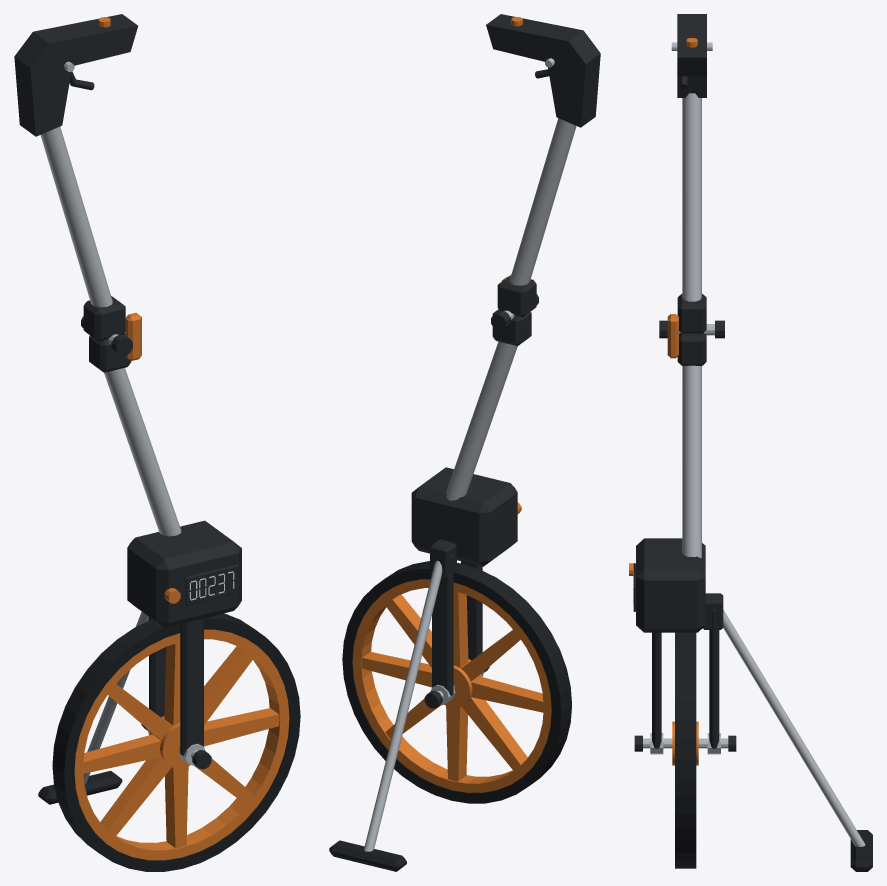
The model's file is A-NEW-20261026-MEASURING-WHEEL-001_LOD2_R2.glb.
3 views of the same model, side by side, from view 1: azimuth 30°, elevation 25°; view 2: azimuth 150°, elevation 25°; view 3: azimuth 270°, elevation 25° (orthographic). The views are drawn at different scales.
Visible parts, largest first — view 1: continuous rubber measuring tire, orange open wheel rim, counter and fork body, pistol grip shell, upper folding shaft, lower fixed shaft, fork side cheek, open wheel spoke 5, open wheel spoke 4, open wheel spoke 6, open wheel spoke 0, open wheel spoke 1 (+11 smaller); view 2: continuous rubber measuring tire, counter and fork body, orange open wheel rim, pistol grip shell, upper folding shaft, lower fixed shaft, diagonal rear stand, fork side cheek.001, open wheel spoke 5, open wheel spoke 4, open wheel spoke 6, rear stand ground foot (+10 smaller); view 3: counter and fork body, continuous rubber measuring tire, upper folding shaft, lower fixed shaft, diagonal rear stand, pistol grip shell, fork side cheek.001, fork side cheek, upper hinge leaf, lower hinge leaf, rear stand ground foot, rear stand mounting lug (+1 smaller).
Boxes of the visible parts, bbox=[...] form: continuous rubber measuring tire: bbox=[52, 613, 300, 871]; orange open wheel rim: bbox=[74, 629, 289, 860]; counter and fork body: bbox=[127, 520, 241, 627]; pistol grip shell: bbox=[14, 14, 137, 136]; upper folding shaft: bbox=[40, 126, 112, 307]; lower fixed shaft: bbox=[104, 368, 181, 536]; fork side cheek: bbox=[180, 618, 203, 755]; open wheel spoke 5: bbox=[100, 757, 171, 836]; open wheel spoke 4: bbox=[83, 734, 161, 773]; open wheel spoke 6: bbox=[164, 766, 188, 848]; open wheel spoke 0: bbox=[204, 708, 279, 746]; open wheel spoke 1: bbox=[204, 646, 253, 725]; continuous rubber measuring tire: bbox=[342, 561, 571, 803]; counter and fork body: bbox=[411, 467, 517, 566]; orange open wheel rim: bbox=[352, 579, 551, 792]; pistol grip shell: bbox=[486, 14, 600, 127]; upper folding shaft: bbox=[509, 118, 576, 285]; lower fixed shaft: bbox=[446, 341, 517, 500]; diagonal rear stand: bbox=[364, 561, 442, 851]; fork side cheek.001: bbox=[432, 555, 453, 695]; open wheel spoke 5: bbox=[461, 697, 527, 770]; open wheel spoke 4: bbox=[471, 676, 543, 712]; open wheel spoke 6: bbox=[446, 706, 467, 781]; rear stand ground foot: bbox=[329, 840, 406, 871]; counter and fork body: bbox=[636, 538, 705, 632]; continuous rubber measuring tire: bbox=[675, 632, 696, 868]; upper folding shaft: bbox=[682, 93, 701, 301]; lower fixed shaft: bbox=[682, 365, 701, 558]; diagonal rear stand: bbox=[723, 610, 865, 846]; pistol grip shell: bbox=[677, 14, 706, 97]; fork side cheek.001: bbox=[709, 610, 719, 748]; fork side cheek: bbox=[652, 632, 661, 748]; upper hinge leaf: bbox=[677, 293, 706, 333]; lower hinge leaf: bbox=[677, 333, 706, 365]; rear stand ground foot: bbox=[850, 830, 872, 871]; rear stand mounting lug: bbox=[702, 593, 723, 629].
Bounding box in the file's own units: 0.3464 × 1.06 × 0.2975.
